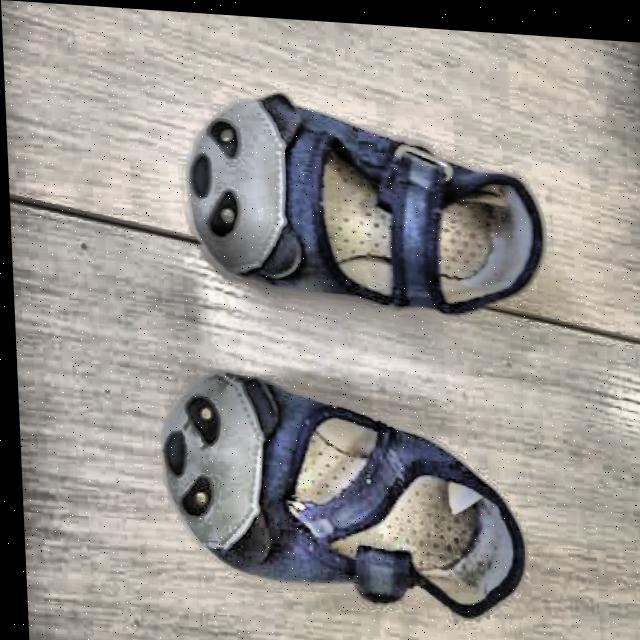shoes: (122, 65, 593, 640)
